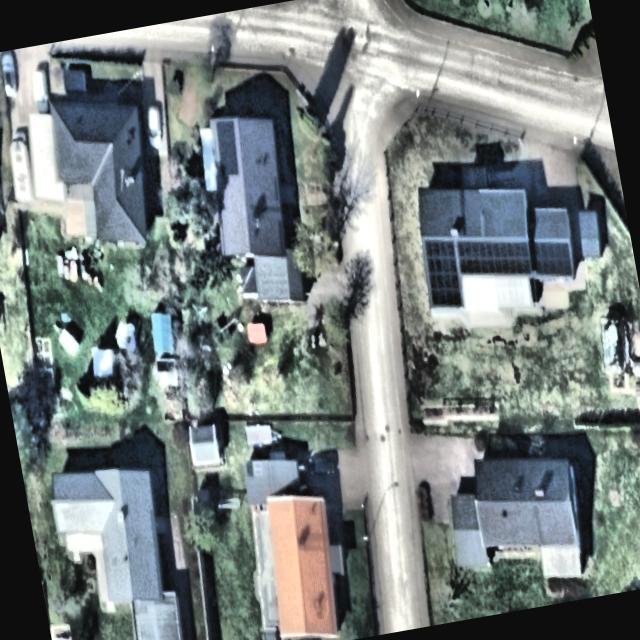roof_pv: (454, 228, 534, 286), (421, 238, 466, 312), (529, 232, 577, 278), (212, 116, 244, 180)
